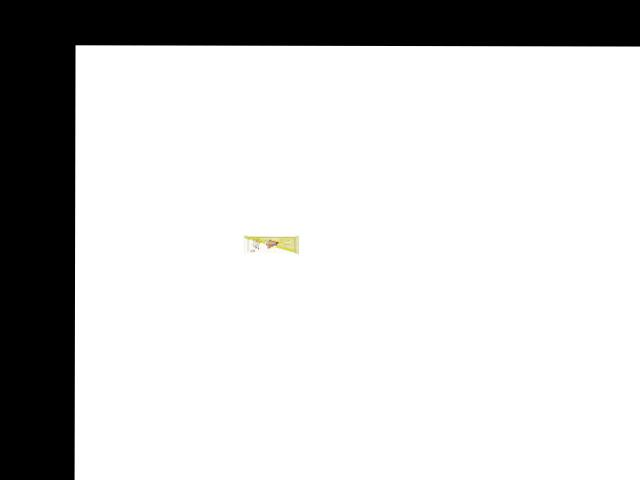chocolate: (240, 230, 302, 258)
